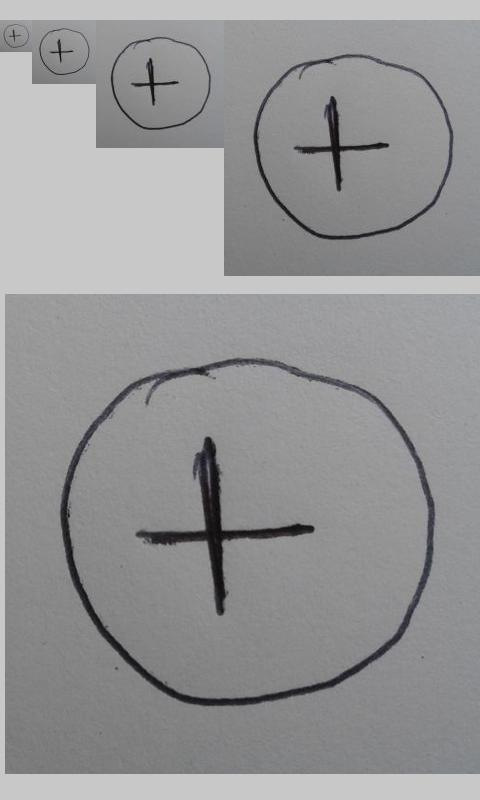button: (59, 355, 435, 708), (253, 54, 454, 241), (111, 36, 213, 131), (38, 27, 90, 76), (3, 23, 30, 49)
